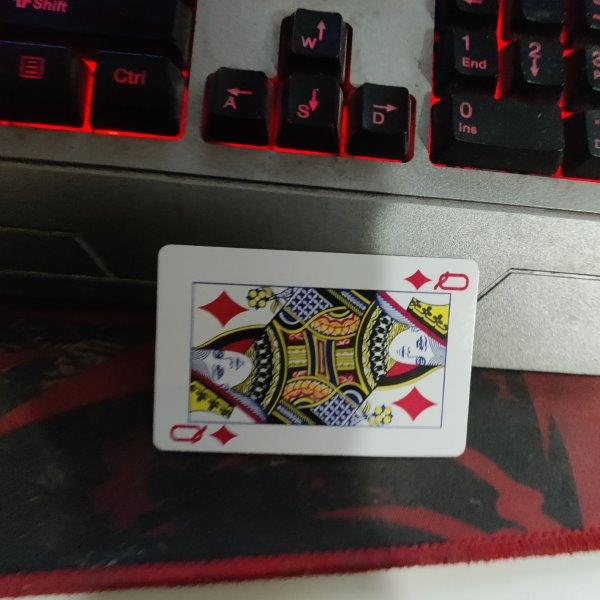Queen of Diamonds: (152, 243, 479, 461)
